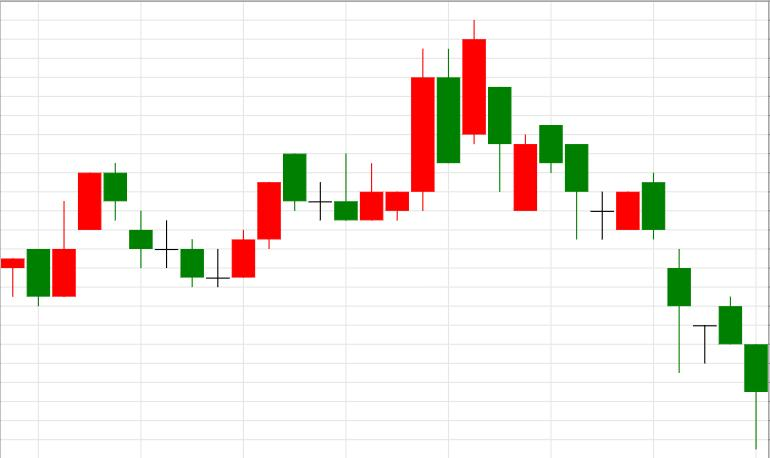hammer_rise: (643, 173, 768, 449)
morning_star_rise: (104, 162, 255, 288)
